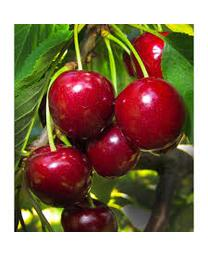cherry: (114, 77, 186, 151), (48, 71, 113, 140), (24, 144, 93, 208), (123, 30, 177, 85), (88, 120, 139, 176), (60, 202, 121, 231)
